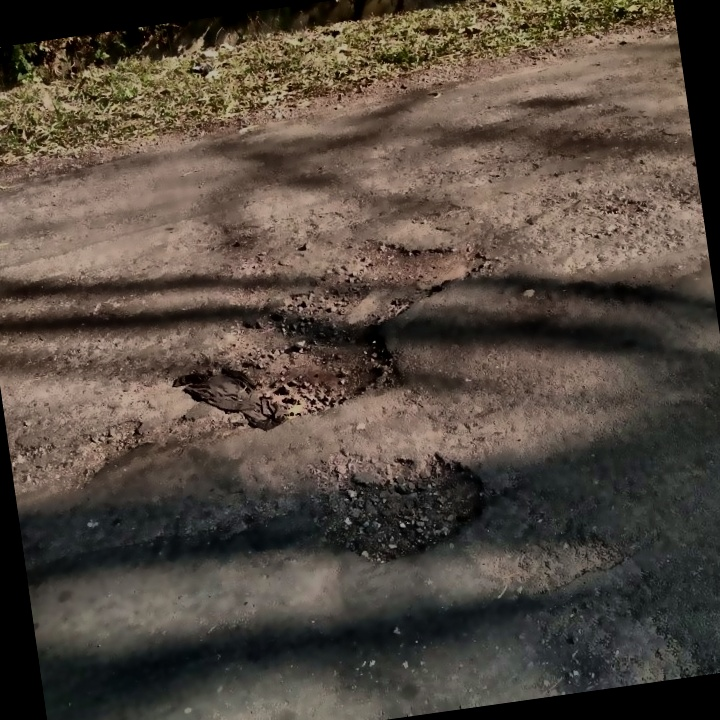pothole: (183, 217, 509, 432), (309, 439, 500, 573)
